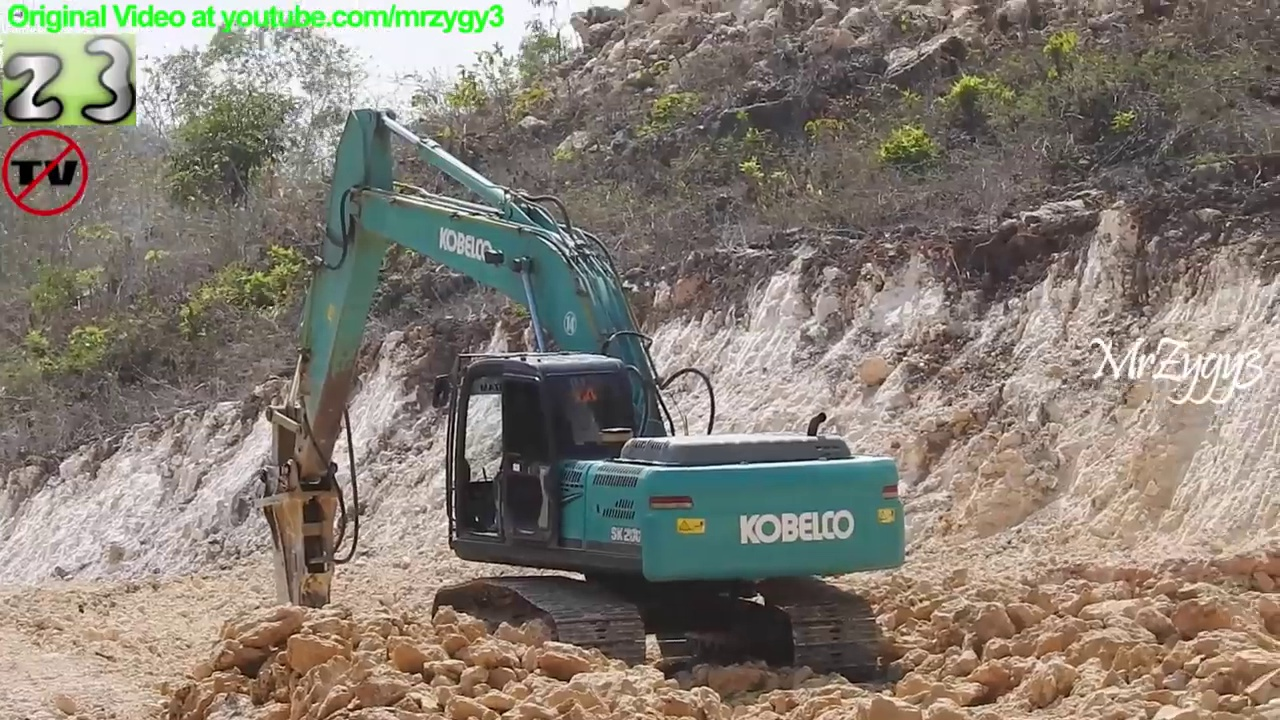excavator breaker: (246, 105, 917, 690)
